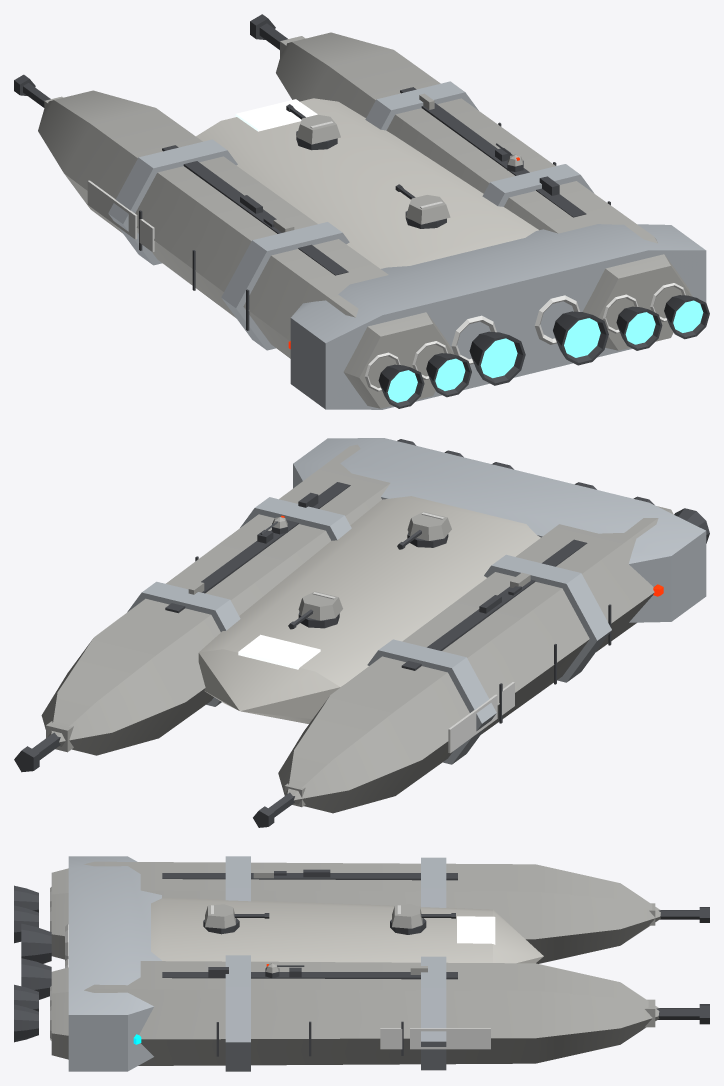
File: corvette.glb
3 renders of one model, top to bottom at view 1: azimuth 30°, elevation 25°; view 2: azimuth 150°, elevation 25°; view 3: azimuth 270°, elevation 25°, orthographic. The views are drawn at different scales.
Parts seen in each view (by area): view 1: Hull, Turret_5, Turret_6; view 2: Hull, Turret_5, Turret_6; view 3: Hull, Turret_5, Turret_6.
Part boxes in pixels (x1,y1,x2,y2): Hull: (14, 14, 709, 409); Turret_5: (286, 104, 340, 150); Turret_6: (395, 184, 450, 228); Hull: (14, 438, 709, 827); Turret_5: (288, 591, 342, 629); Turret_6: (397, 511, 451, 549); Hull: (14, 856, 709, 1071); Turret_5: (390, 904, 455, 934); Turret_6: (203, 904, 269, 934).
Size of the model in its own units: 1.08 by 0.3063 by 2.
